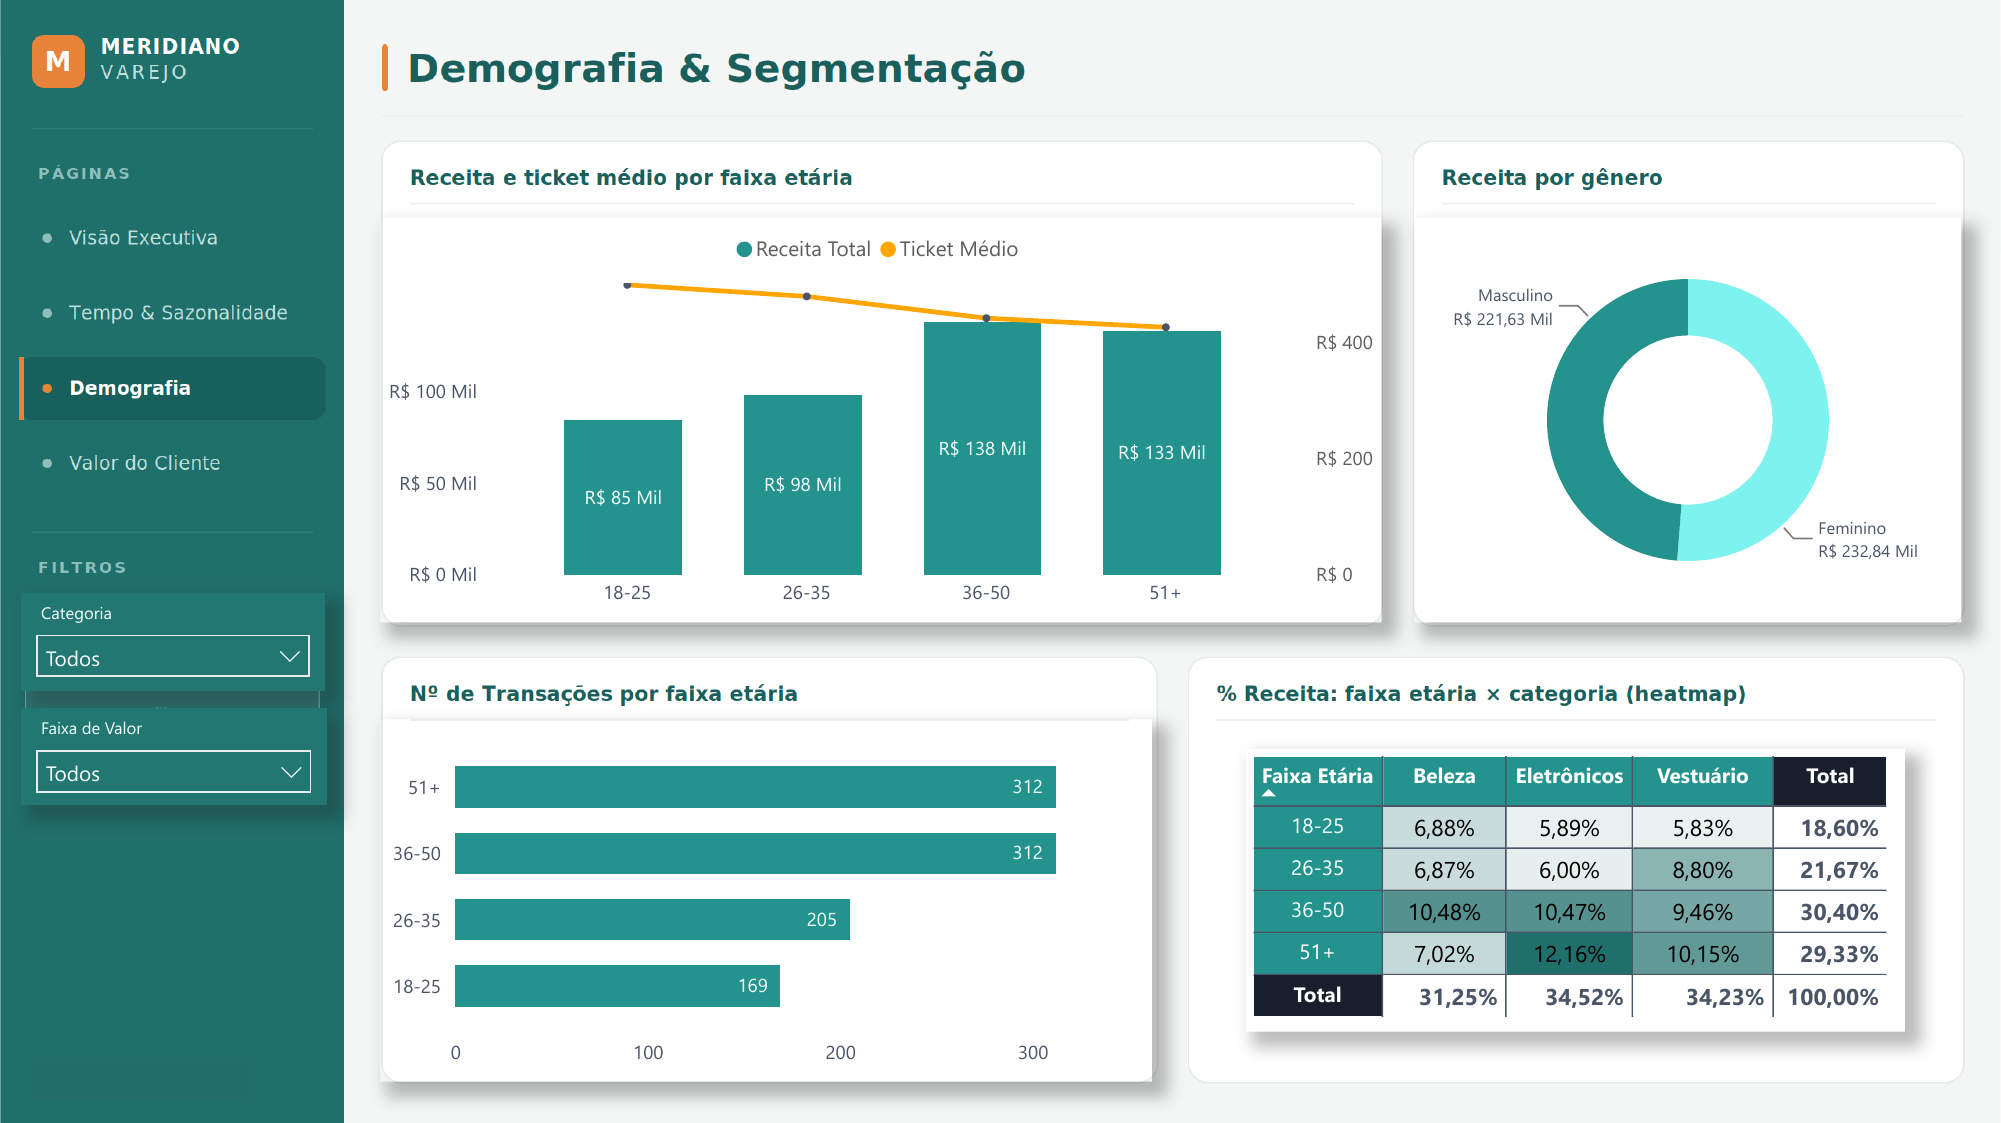

Layout of this report page (visuals, bound fields, positions):
{"tool":"powerbi","page":{"name":"Demografia & Segmentação ","canvas":[1280,720],"ordinal":2},"visuals":[{"type":"donutChart","fields":{"Y":["_Medidas.Receita Total"],"Category":["fVendas.Gênero"]},"box":[905.5,139.1,349.1,259.1],"z":0},{"type":"pivotTable","fields":{"Columns":["fVendas.Categoria Produto"],"Values":["_Medidas.% Receita"],"Rows":["fVendas.Faixa Etária"]},"box":[797.1,478.6,421.4,181.4],"z":1000},{"type":"lineStackedColumnComboChart","fields":{"Category":["fVendas.Faixa Etária"],"Y":["_Medidas.Receita Total"],"Y2":["_Medidas.Ticket Médio"]},"box":[242.7,139.1,640.9,259.1],"z":2000},{"type":"clusteredBarChart","fields":{"Category":["fVendas.Faixa Etária"],"Y":["_Medidas.N° Transações"]},"box":[242.7,460,494.5,231.8],"z":3000},{"type":"slicer","fields":{"Values":["fVendas.Categoria Produto"]},"box":[13.2,379.5,195.3,62.6],"z":4000},{"type":"slicer","fields":{"Values":["fVendas.Faixa de Valor"]},"box":[13.3,452.7,195.3,62.7],"z":5000},{"type":"shape","box":[18.8,675.6,143.1,27.5],"z":6000},{"type":"actionButton","box":[10.6,130.6,197.6,41.8],"z":7000},{"type":"actionButton","box":[10,178.6,197.9,41.4],"z":8000},{"type":"actionButton","box":[10,227.1,197.9,41.4],"z":9000},{"type":"actionButton","box":[10,277.1,197.9,41.4],"z":10000}]}

Visuals, with their boxes on the page's 1280x720 design canvas (x1, y1, x2, y2). These are canvas units, not pixel positions in the 2001x1123 screenshot, which may show the page scaled, cropped or inside an application window:
donutChart - _Medidas.Receita Total x fVendas.Gênero: [left=906, top=139, right=1255, bottom=398]
pivotTable - fVendas.Categoria Produto x _Medidas.% Receita: [left=797, top=479, right=1218, bottom=660]
lineStackedColumnComboChart - fVendas.Faixa Etária x _Medidas.Receita Total: [left=243, top=139, right=884, bottom=398]
clusteredBarChart - fVendas.Faixa Etária x _Medidas.N° Transações: [left=243, top=460, right=737, bottom=692]
slicer - fVendas.Categoria Produto: [left=13, top=380, right=208, bottom=442]
slicer - fVendas.Faixa de Valor: [left=13, top=453, right=209, bottom=515]
shape: [left=19, top=676, right=162, bottom=703]
actionButton: [left=11, top=131, right=208, bottom=172]
actionButton: [left=10, top=179, right=208, bottom=220]
actionButton: [left=10, top=227, right=208, bottom=268]
actionButton: [left=10, top=277, right=208, bottom=318]
